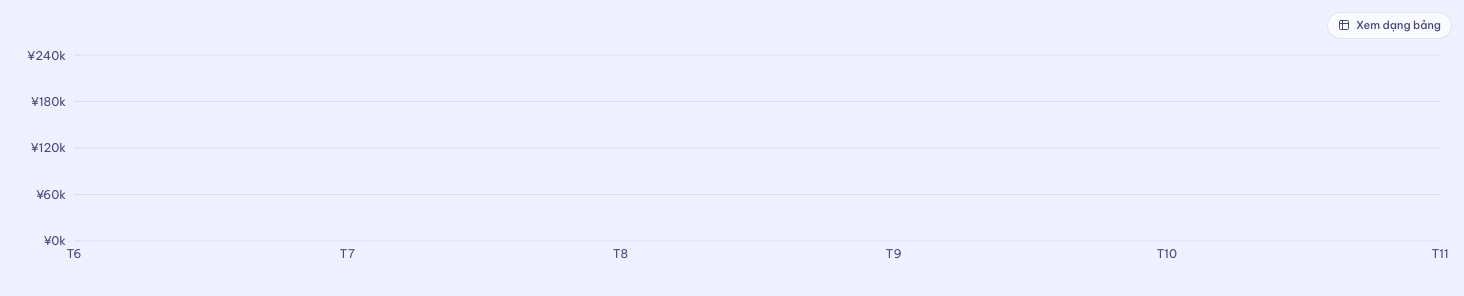
Test: UI Theme, i18n & Chart Table › toggles SalaryTrendChart to table view
Click the button "Xem dạng bảng": (1389, 25) [1327, 12, 1452, 38]
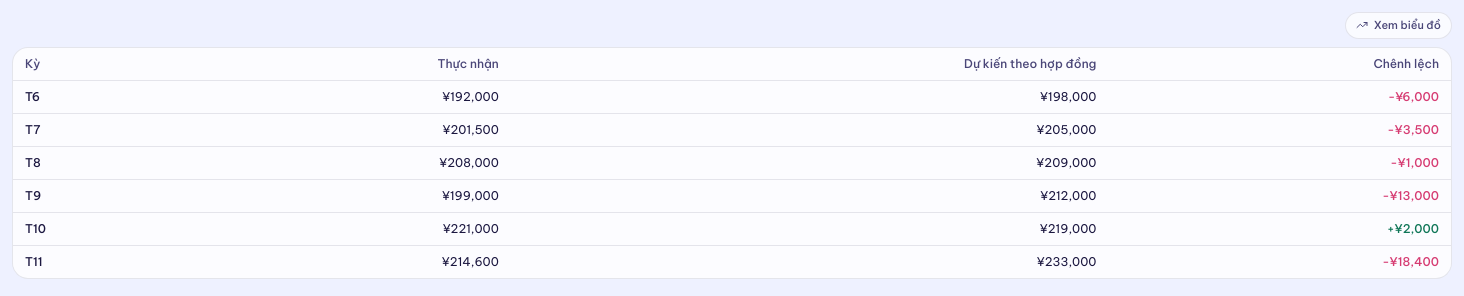
expect the text "¥214,600" is shown: met, box [185, 245, 511, 278]
